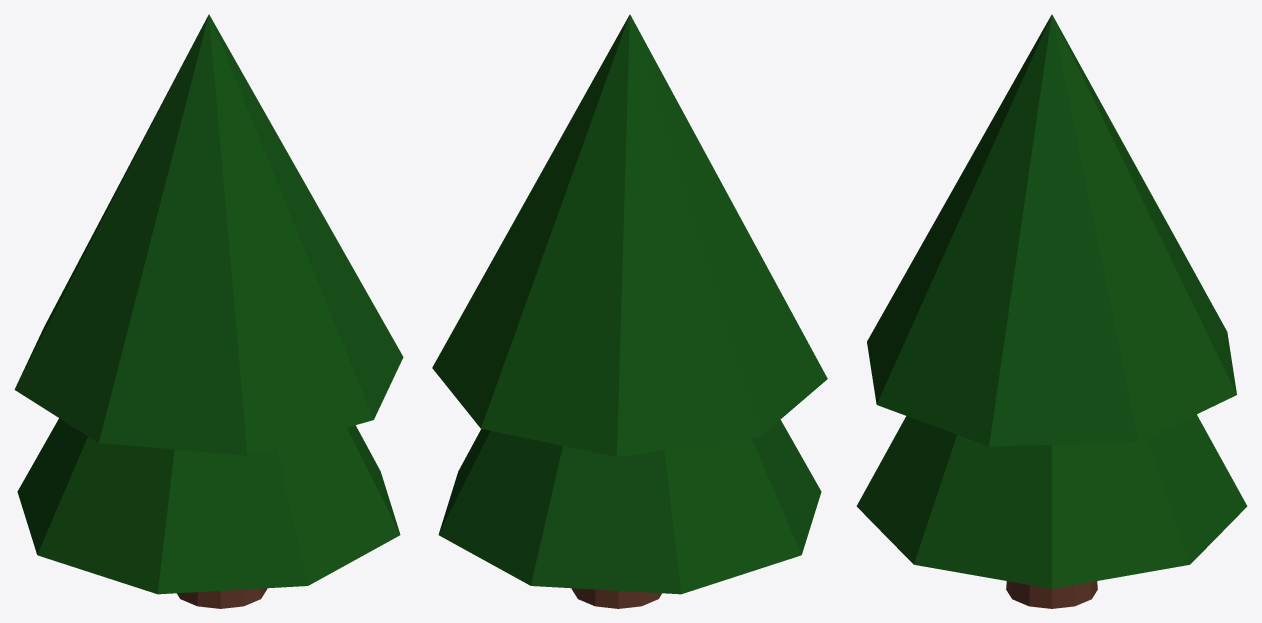
The model's file is PineTree_TFSGJ_Spring2025.fbx.
The picture shows the model from 3 angles, left to right: view 1: azimuth 30°, elevation 25°; view 2: azimuth 150°, elevation 25°; view 3: azimuth 270°, elevation 25°; orthographic projection.
Parts seen in each view (by area): view 1: Pine Tree; view 2: Pine Tree; view 3: Pine Tree.
Boxes of the visible parts, <box> form: Pine Tree: <box>14,14,403,608</box>; Pine Tree: <box>432,14,827,608</box>; Pine Tree: <box>856,14,1247,608</box>.
Bounding box in the file's own units: 118 × 190 × 118.
